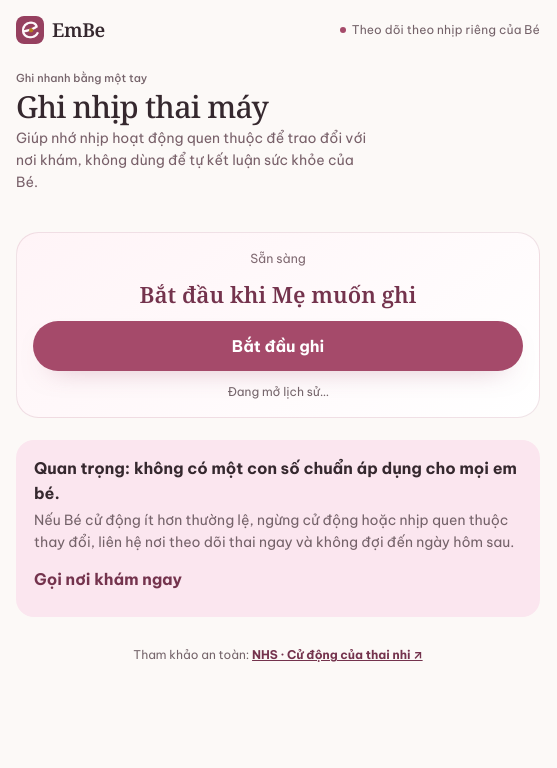
it: fetal movement pattern tool › records taps optimistically after a session starts
Click the button "Bắt đầu ghi": [278, 346] box [33,322,523,372]
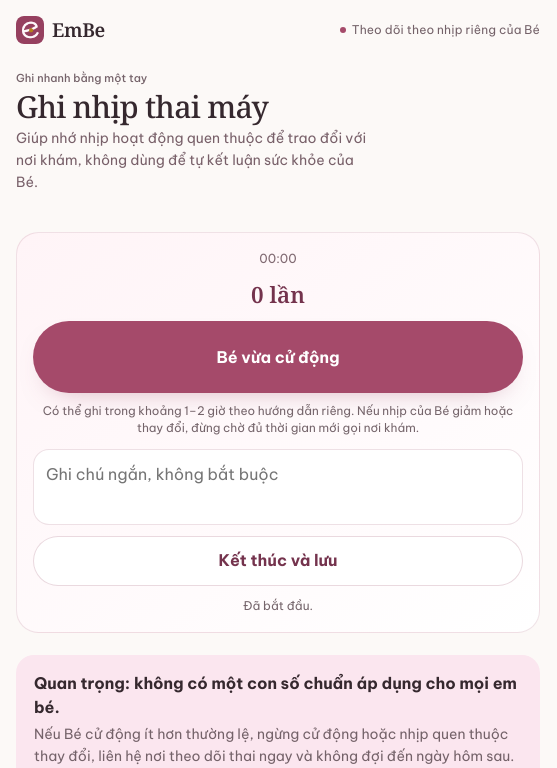
Expected: the text "1–2 giờ" is shown, [43,403,513,435]
Click the button "Bé vừa cử động": [278, 358] box [33,322,523,394]
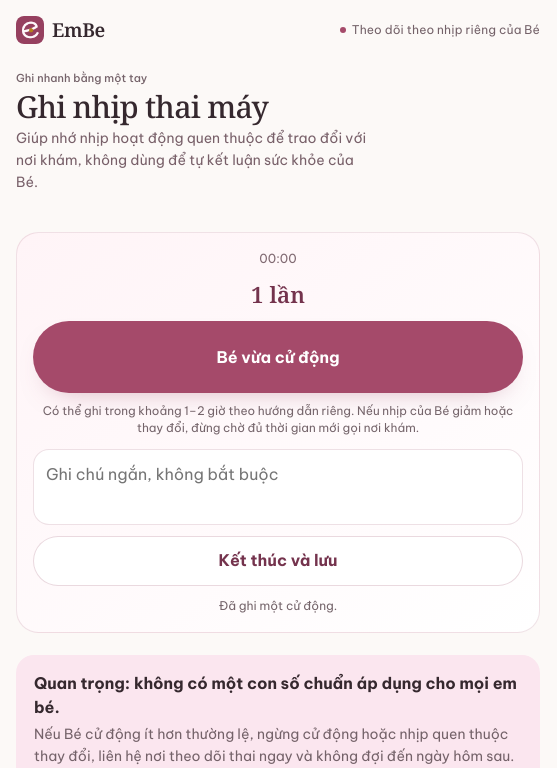
Expected: the text "1 lần" is shown, [251,279,305,310]
